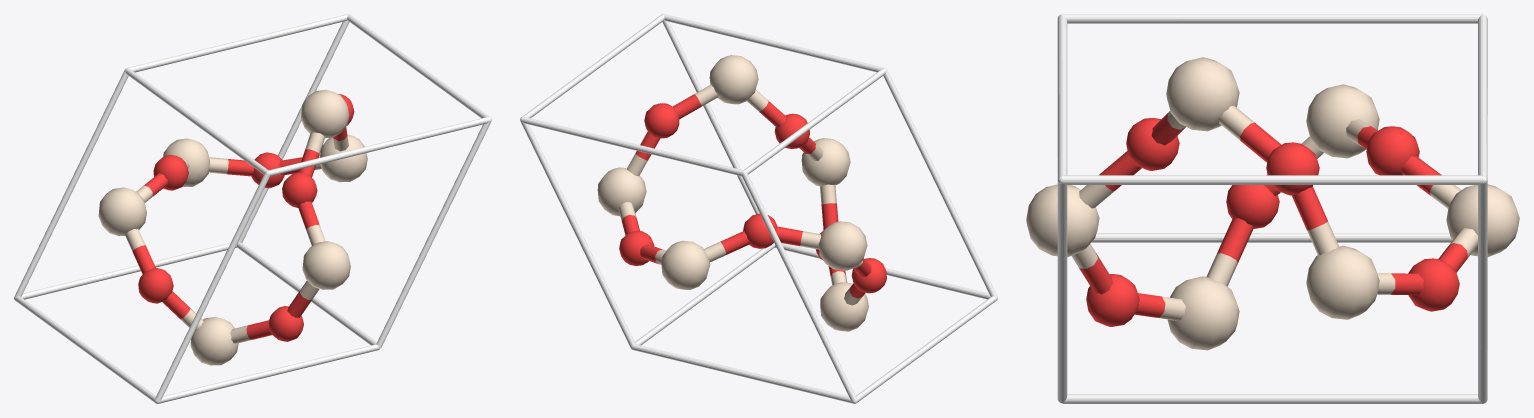
The model's file is Cuarzo.fbx.
3 views of the same model, side by side, from view 1: azimuth 30°, elevation 25°; view 2: azimuth 150°, elevation 25°; view 3: azimuth 270°, elevation 25° (orthographic). The views are drawn at different scales.
Parts seen in each view (by area): view 1: cuarzo, limite.001; view 2: cuarzo, limite.001; view 3: cuarzo, limite.001.
Part boxes in pixels (x1,y1,x2,y2): cuarzo: [98, 89, 367, 365]; limite.001: [14, 14, 491, 403]; cuarzo: [597, 55, 886, 331]; limite.001: [520, 14, 997, 403]; cuarzo: [1026, 57, 1519, 350]; limite.001: [1057, 14, 1487, 403].
Bounding box in the file's own units: 750 × 521 × 635.
